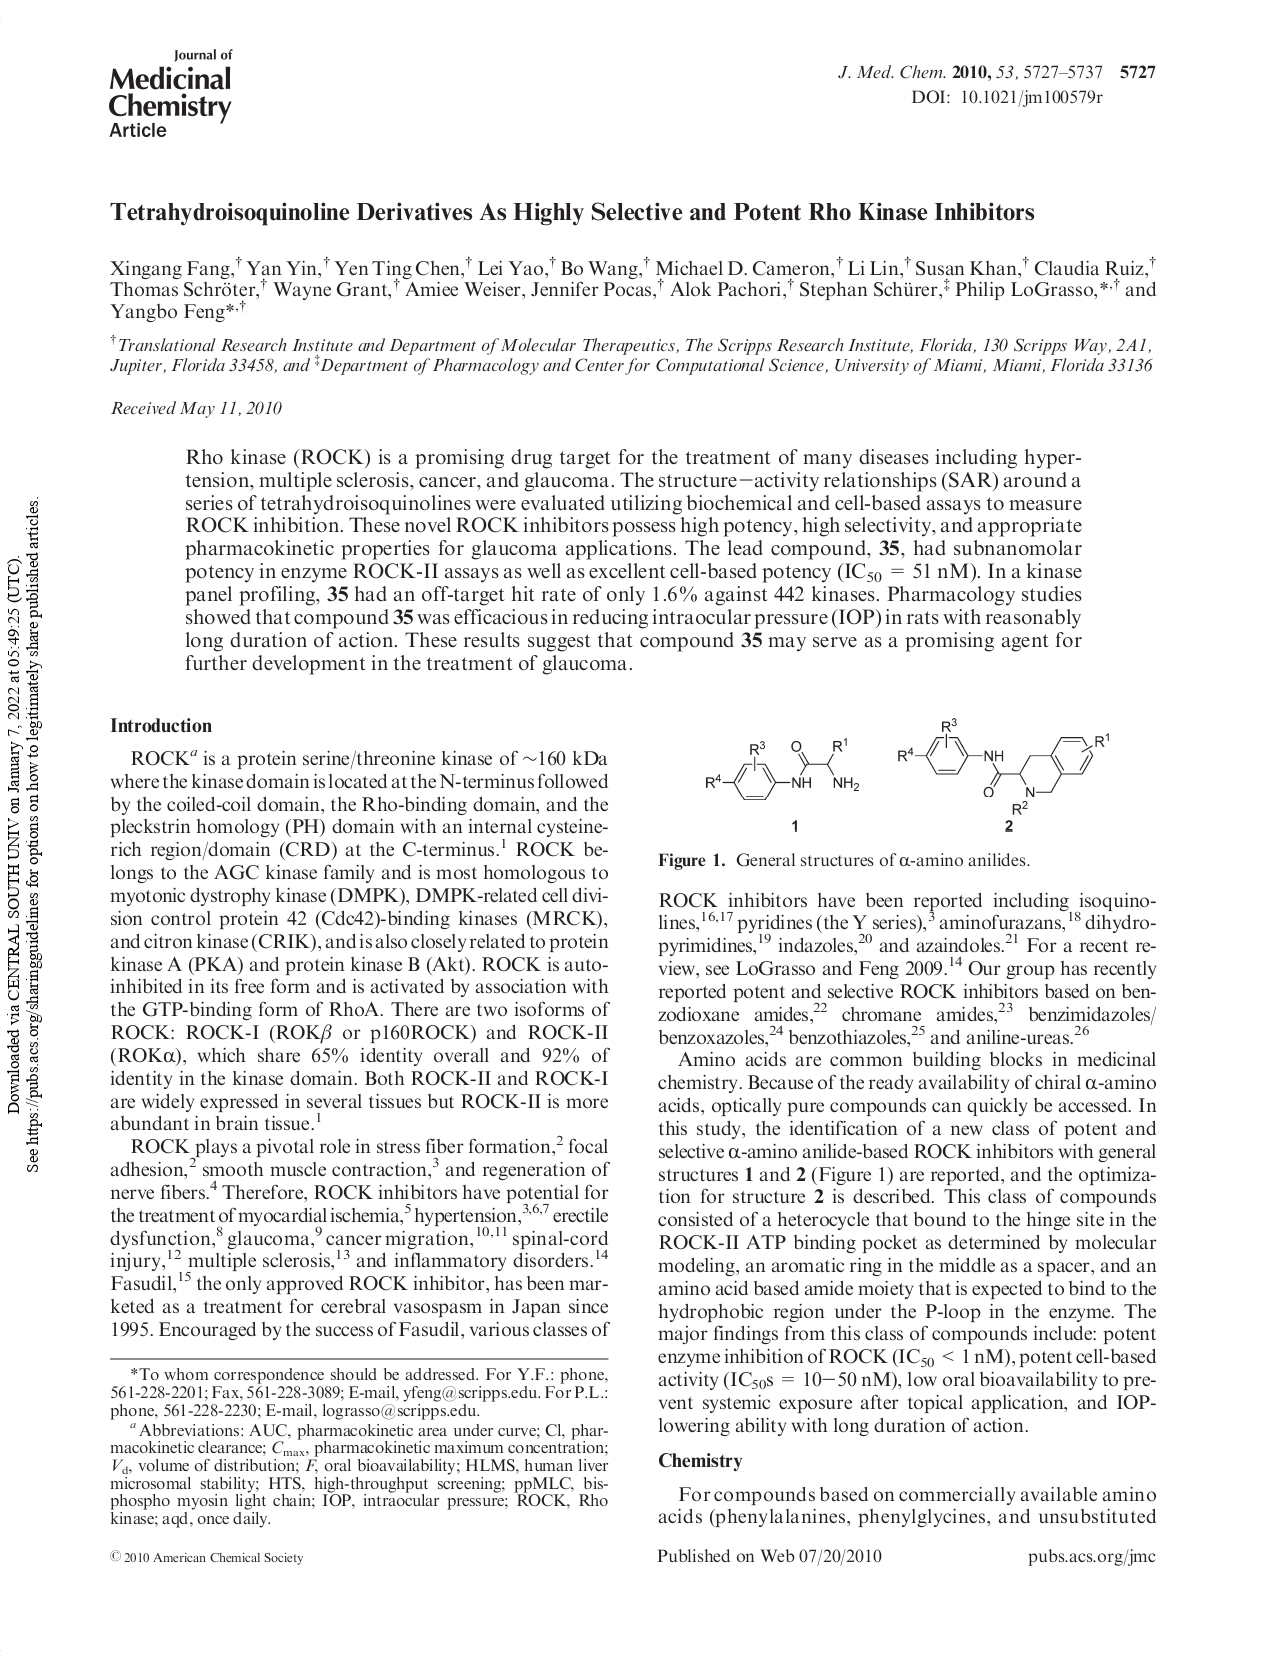exist_molecular: (896, 715, 1112, 817), (705, 733, 860, 801)
